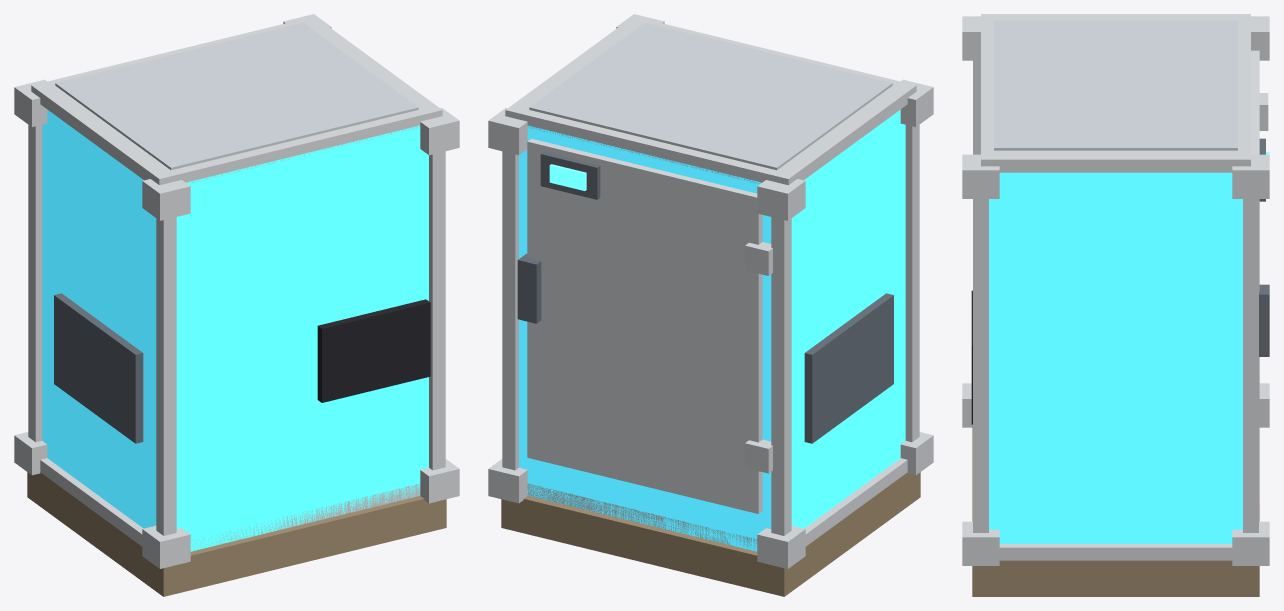
The model's file is coldbox_lite.glb.
3 renders of one model, left to right at view 1: azimuth 30°, elevation 25°; view 2: azimuth 150°, elevation 25°; view 3: azimuth 270°, elevation 25°, orthographic. The views are drawn at different scales.
Visible parts, largest first — view 1: Body_ColdBox01_Shell, ColdBox01_Frame, ColdBox01_Lid, ColdBox01_Pallet, ColdBox01_Vent2, ColdBox01_Vent; view 2: Body_ColdBox01_Door, Body_ColdBox01_Shell, ColdBox01_Frame, ColdBox01_Lid, ColdBox01_Pallet, ColdBox01_Vent, ColdBox01_Hinges, ColdBox01_Latch, Device_ColdBox01_Panel, Device_ColdBox01_Display; view 3: Body_ColdBox01_Shell, ColdBox01_Frame, ColdBox01_Lid, ColdBox01_Pallet, Body_ColdBox01_Door, ColdBox01_Latch.
Boxes of the visible parts, bbox=[...] form: Body_ColdBox01_Shell: bbox=[42, 109, 428, 551]; ColdBox01_Frame: bbox=[14, 14, 459, 568]; ColdBox01_Lid: bbox=[55, 22, 418, 170]; ColdBox01_Pallet: bbox=[27, 472, 446, 596]; ColdBox01_Vent2: bbox=[317, 299, 430, 402]; ColdBox01_Vent: bbox=[54, 293, 143, 443]; Body_ColdBox01_Door: bbox=[527, 138, 762, 513]; Body_ColdBox01_Shell: bbox=[519, 109, 905, 551]; ColdBox01_Frame: bbox=[488, 14, 933, 568]; ColdBox01_Lid: bbox=[529, 22, 892, 170]; ColdBox01_Pallet: bbox=[501, 472, 920, 596]; ColdBox01_Vent: bbox=[804, 293, 893, 443]; ColdBox01_Hinges: bbox=[745, 242, 772, 473]; ColdBox01_Latch: bbox=[517, 253, 541, 323]; Device_ColdBox01_Panel: bbox=[540, 152, 600, 199]; Device_ColdBox01_Display: bbox=[549, 164, 586, 190]; Body_ColdBox01_Shell: bbox=[989, 172, 1242, 543]; ColdBox01_Frame: bbox=[962, 14, 1269, 565]; ColdBox01_Lid: bbox=[994, 20, 1237, 150]; ColdBox01_Pallet: bbox=[972, 426, 1259, 596]; Body_ColdBox01_Door: bbox=[1251, 50, 1259, 502]; ColdBox01_Latch: bbox=[1259, 284, 1269, 356].
Bounding box in the file's own units: 1.27 × 1.69 × 1.07.
